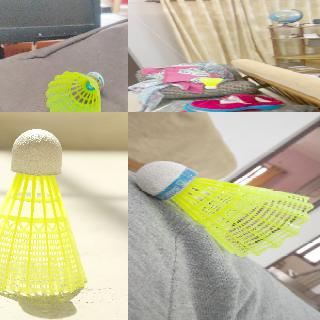shuttlecock: (136, 161, 312, 257), (0, 128, 87, 294), (44, 70, 104, 111), (199, 78, 223, 89)
